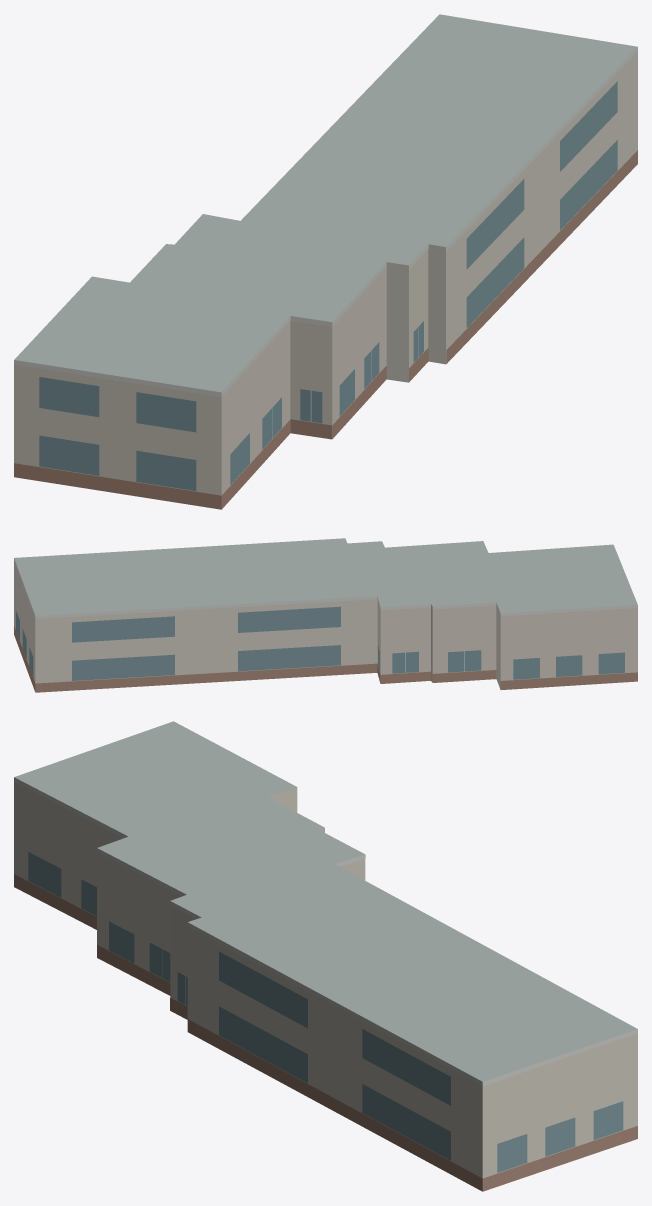
File: survey-upis-32853787.glb
The picture shows the model from 3 angles, top to bottom: view 1: azimuth 30°, elevation 25°; view 2: azimuth 150°, elevation 25°; view 3: azimuth 270°, elevation 25°; orthographic projection. The views are drawn at different scales.
Visible parts, largest first — view 1: survey-upis-32853787.tmp; view 2: survey-upis-32853787.tmp; view 3: survey-upis-32853787.tmp.
Part boxes in pixels (x1,y1,x2,y2): survey-upis-32853787.tmp: (14,14,637,509); survey-upis-32853787.tmp: (14,538,637,692); survey-upis-32853787.tmp: (14,721,637,1191).
Size of the model in its own units: 42.94 by 6.1 by 31.39.
